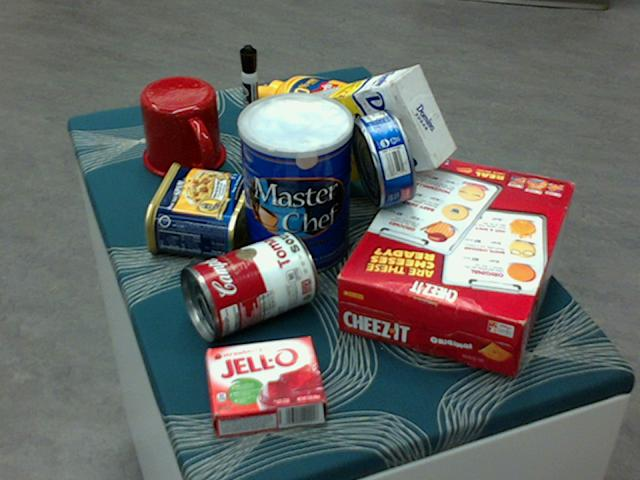cracker_box: (334, 152, 574, 375)
gelatin_box: (205, 336, 327, 435)
large_marker: (238, 44, 261, 147)
master_chef_can: (237, 93, 352, 278)
mug: (140, 76, 227, 179)
mustard_bottle: (252, 74, 418, 161)
potted_meat_can: (144, 162, 254, 258)
sugar_box: (274, 66, 455, 185)
tomato_soup_can: (178, 232, 316, 339)
tuna_fish_can: (351, 107, 416, 206)
